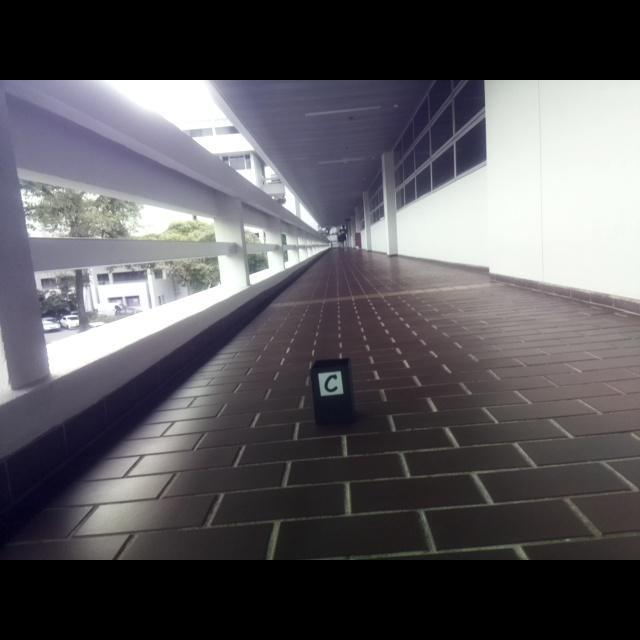C: (324, 375, 338, 393)
